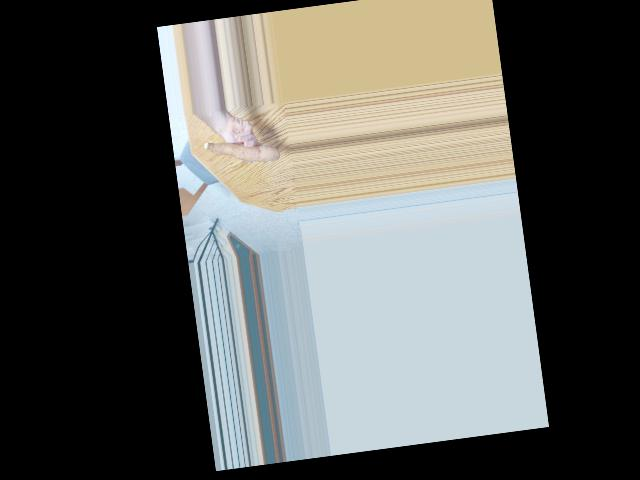sweet_potato: (204, 129, 279, 173)
